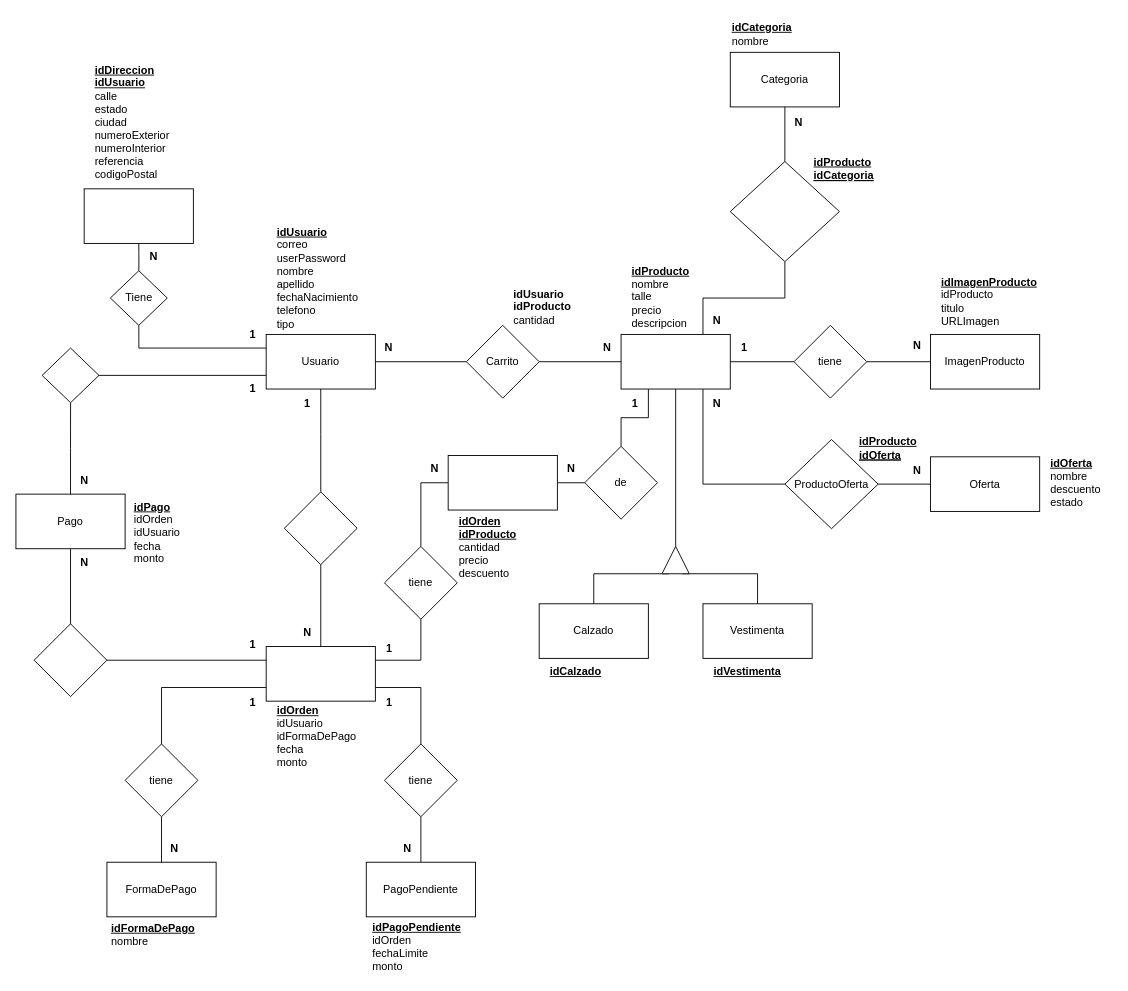
The diagram is 1128 pixels wide and 991 high, and some of its shapes have lost their labels. Each missing label, with the centre of its shape:
compra: pixel 320 528
Direccion: pixel 138 215
Orden: pixel 320 673
OrdenDetalle: pixel 502 482
PagoOrden: pixel 70 660
Producto: pixel 675 361
ProductoCategoria: pixel 784 211
Realizo: pixel 70 375
